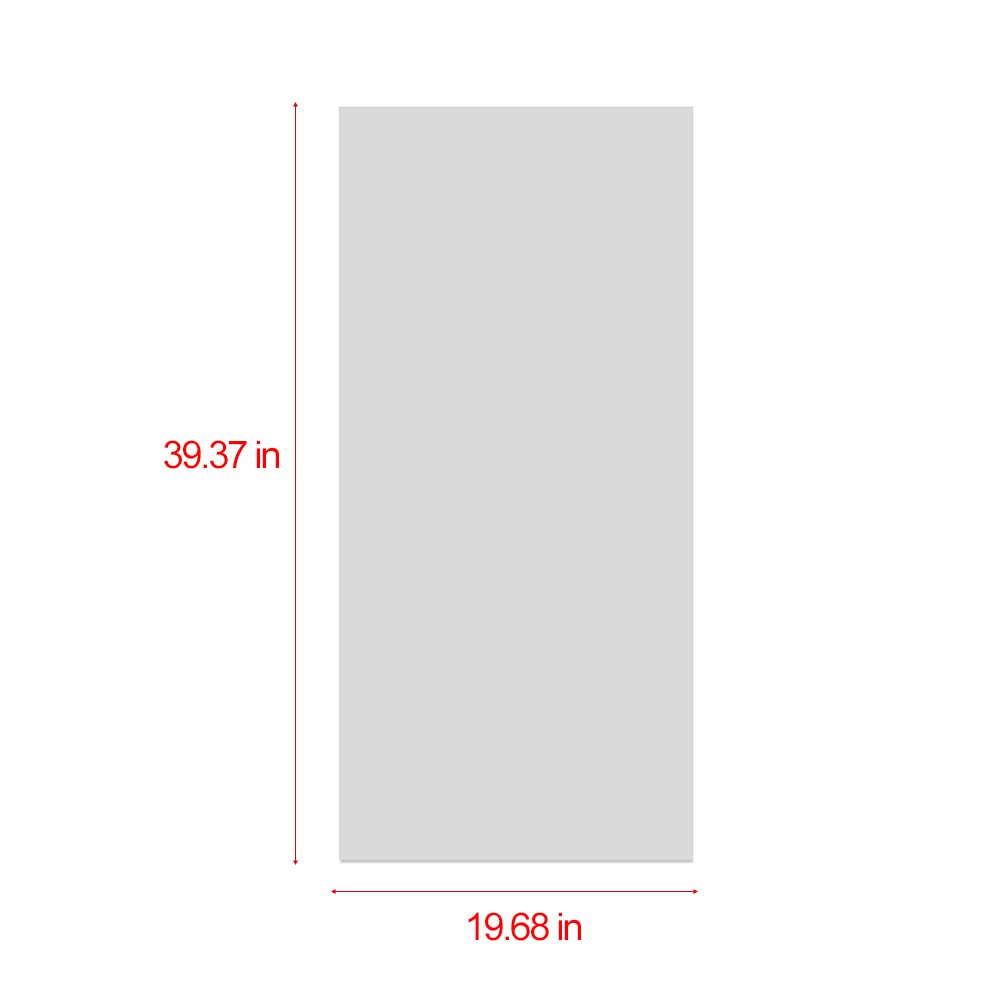19.68: (469, 913, 549, 940)
39.37: (165, 441, 247, 468)
in: (257, 441, 279, 468), (559, 913, 581, 940)
